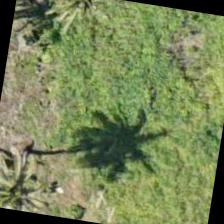Kelapa_Sawit: (0, 137, 80, 218)
